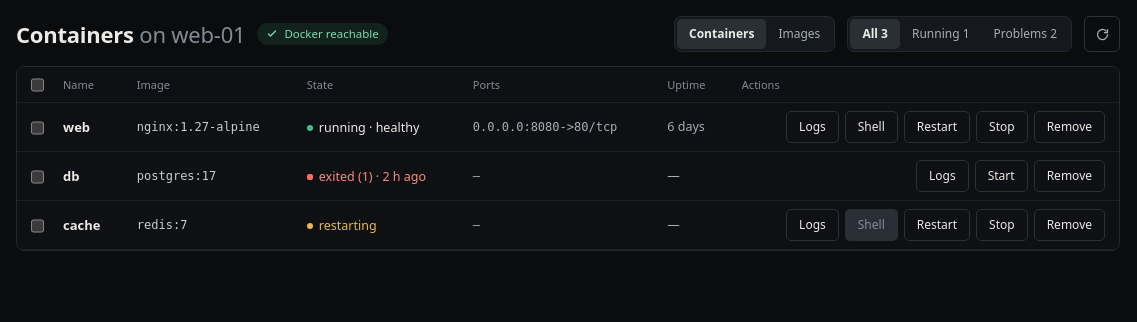
Test case: DockerWorkspace › shows the server reason when an action fails
Expected: the text "Docker reachable" is shown, [258,23,388,45]
Click the button with aria-label "Start db": (1001, 176) [975,160,1028,192]
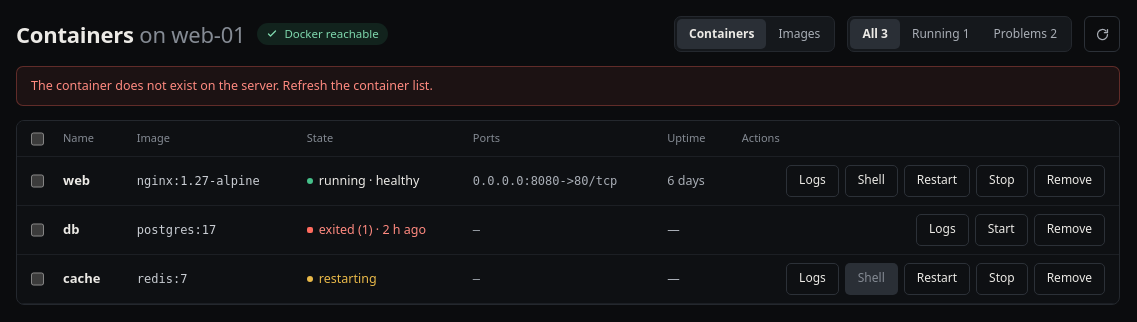
Expected: the message shows "The container does not exist on the server.", [31,77,433,94]
